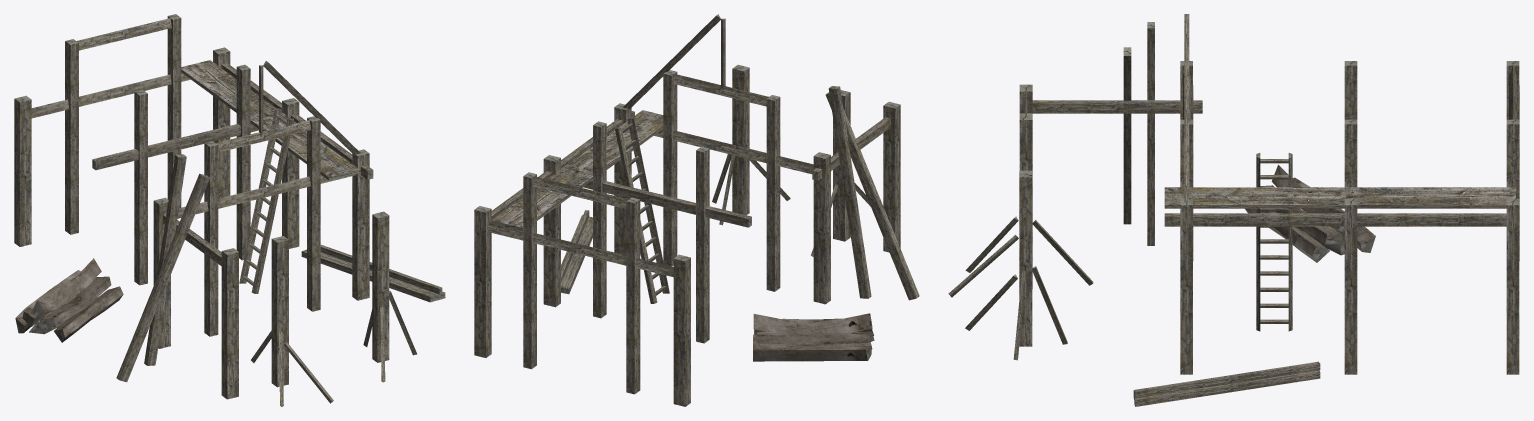
File: ConstructionSite_LOD02.fbx
3 views of the same model, side by side, from view 1: azimuth 30°, elevation 25°; view 2: azimuth 150°, elevation 25°; view 3: azimuth 270°, elevation 25° (orthographic). The views are drawn at different scales.
Parts seen in each view (by area): view 1: Mesh Object; view 2: Mesh Object; view 3: Mesh Object.
Boxes of the visible parts, box(x1,y1,x2,y2) form: Mesh Object: box(14, 14, 445, 406); Mesh Object: box(474, 14, 919, 406); Mesh Object: box(948, 14, 1519, 406).
Size of the model in its own units: 7.39 by 5.17 by 8.77.
